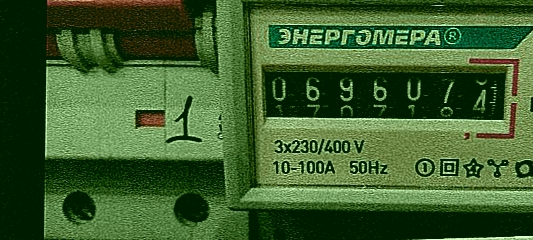0: (268, 74, 290, 103), (405, 73, 424, 102), (304, 75, 322, 101)
4: (471, 87, 489, 115)
6: (370, 73, 389, 103)
7: (438, 75, 457, 104)
9: (337, 74, 356, 102)
screen: (247, 51, 522, 139)
